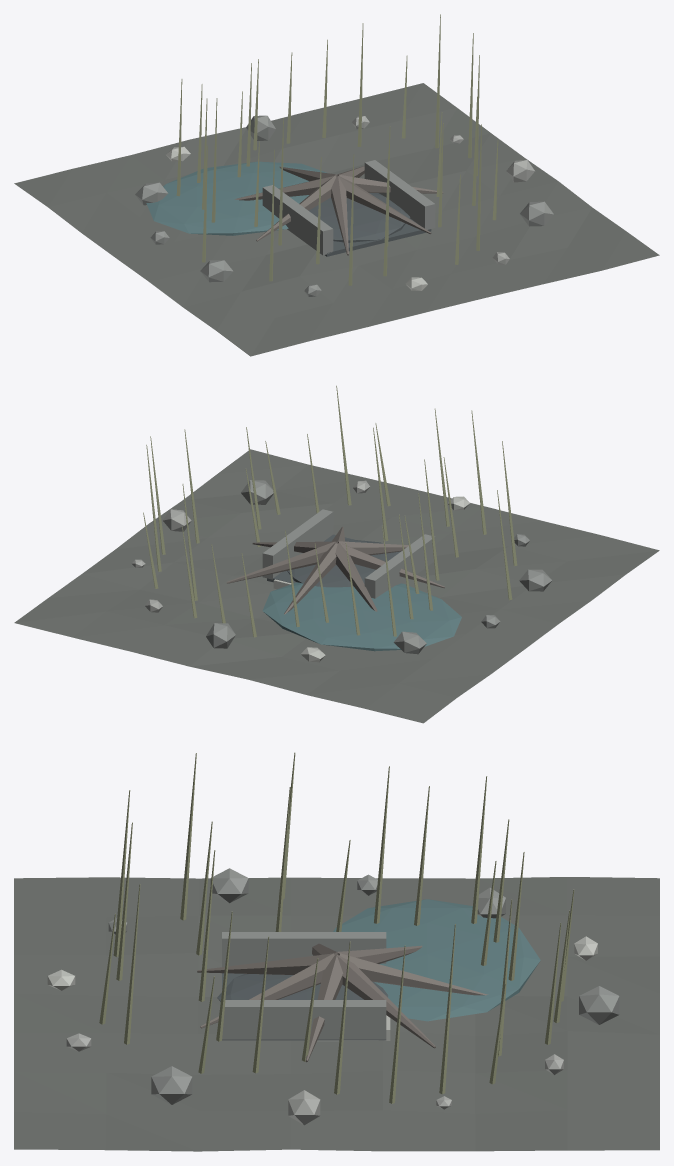
Rendered from tser_reed_den_revealed.glb.
3 renders of one model, top to bottom at view 1: azimuth 30°, elevation 25°; view 2: azimuth 150°, elevation 25°; view 3: azimuth 270°, elevation 25°, orthographic. The views are drawn at different scales.
Parts seen in each view (by area): view 1: tser_reed_den_revealed_color_00, tser_reed_den_revealed_color_05, tser_reed_den_revealed_color_04, tser_reed_den_revealed_color_02, tser_reed_den_revealed_color_06, tser_reed_den_revealed_color_07, tser_reed_den_revealed_color_01; view 2: tser_reed_den_revealed_color_00, tser_reed_den_revealed_color_04, tser_reed_den_revealed_color_05, tser_reed_den_revealed_color_02, tser_reed_den_revealed_color_06, tser_reed_den_revealed_color_07, tser_reed_den_revealed_color_01, tser_reed_den_revealed_color_03; view 3: tser_reed_den_revealed_color_00, tser_reed_den_revealed_color_05, tser_reed_den_revealed_color_02, tser_reed_den_revealed_color_04, tser_reed_den_revealed_color_06, tser_reed_den_revealed_color_07, tser_reed_den_revealed_color_01, tser_reed_den_revealed_color_03.
Boxes of the visible parts, <box> form: tser_reed_den_revealed_color_00: <box>14,83,659,356</box>; tser_reed_den_revealed_color_05: <box>176,14,498,285</box>; tser_reed_den_revealed_color_04: <box>146,161,327,235</box>; tser_reed_den_revealed_color_02: <box>135,115,553,296</box>; tser_reed_den_revealed_color_06: <box>234,166,443,255</box>; tser_reed_den_revealed_color_07: <box>309,193,431,256</box>; tser_reed_den_revealed_color_01: <box>352,116,534,264</box>; tser_reed_den_revealed_color_00: <box>14,449,659,723</box>; tser_reed_den_revealed_color_04: <box>262,582,461,651</box>; tser_reed_den_revealed_color_05: <box>143,385,517,637</box>; tser_reed_den_revealed_color_02: <box>206,480,552,654</box>; tser_reed_den_revealed_color_06: <box>226,526,444,614</box>; tser_reed_den_revealed_color_07: <box>267,534,400,587</box>; tser_reed_den_revealed_color_01: <box>131,480,369,612</box>; tser_reed_den_revealed_color_03: <box>273,496,469,662</box>; tser_reed_den_revealed_color_00: <box>14,877,659,1151</box>; tser_reed_den_revealed_color_05: <box>99,752,574,1103</box>; tser_reed_den_revealed_color_02: <box>108,868,619,1104</box>; tser_reed_den_revealed_color_04: <box>333,899,540,1021</box>; tser_reed_den_revealed_color_06: <box>197,943,488,1062</box>; tser_reed_den_revealed_color_07: <box>217,973,388,1040</box>; tser_reed_den_revealed_color_01: <box>66,1033,563,1125</box>; tser_reed_den_revealed_color_03: <box>47,936,597,1041</box>.
Size of the model in its own units: 3.93 by 1.46 by 3.93.
